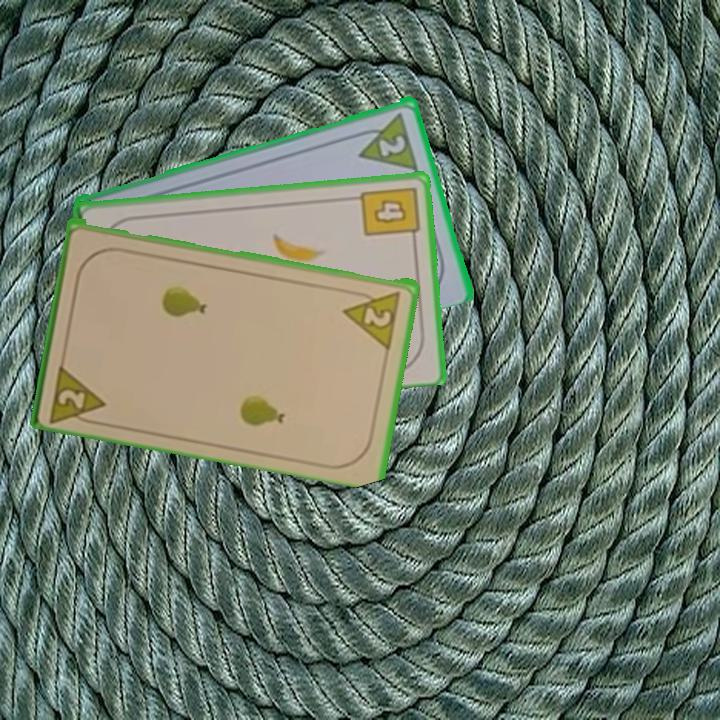2p: (46, 357, 109, 428), (340, 286, 404, 350), (375, 131, 409, 159)
4b: (357, 183, 422, 245)
